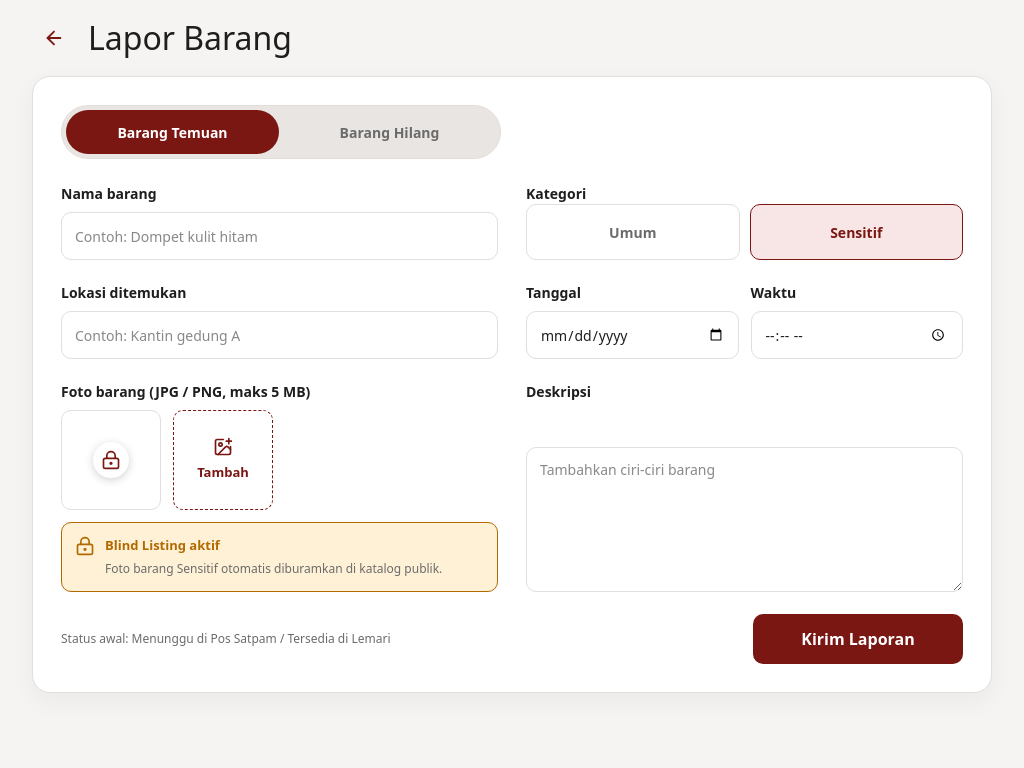
Test case: ReportItemPage › validates required fields and accepted photo size and type
Click the button "Kirim Laporan" at (858, 638), box top-left (753, 614), bottom-right (963, 664)
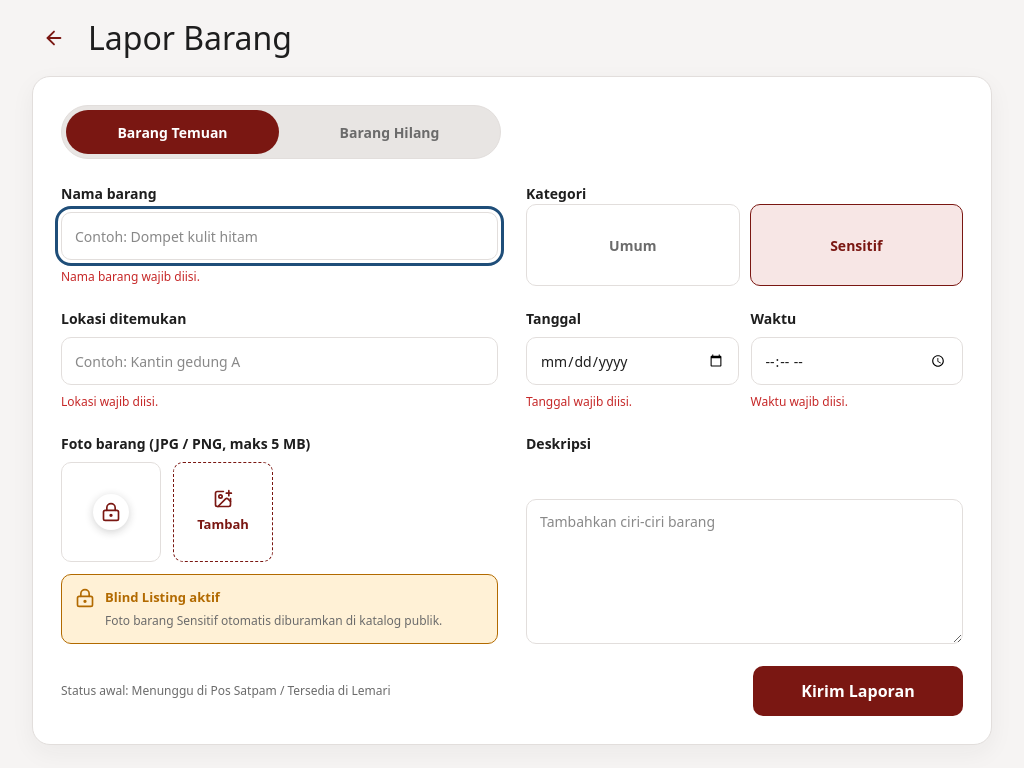
Expected: the text "Nama barang wajib diisi." is shown, top-left (61, 268), bottom-right (200, 285)
Expected: the text "Lokasi wajib diisi." is shown, top-left (61, 393), bottom-right (158, 410)
Expected: the text "Tanggal wajib diisi." is shown, top-left (526, 393), bottom-right (632, 410)
